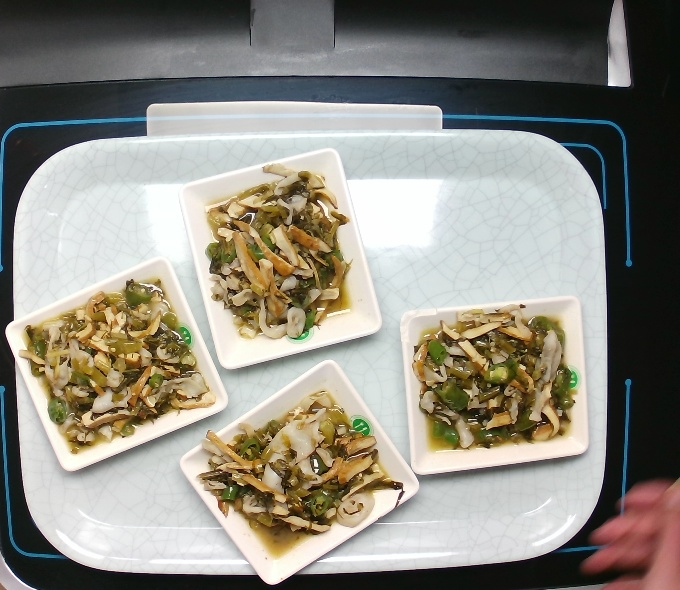wcq-YouYuXueCaiDouGan: (193, 381, 405, 558), (13, 277, 216, 456), (198, 156, 361, 342), (411, 301, 583, 455)
